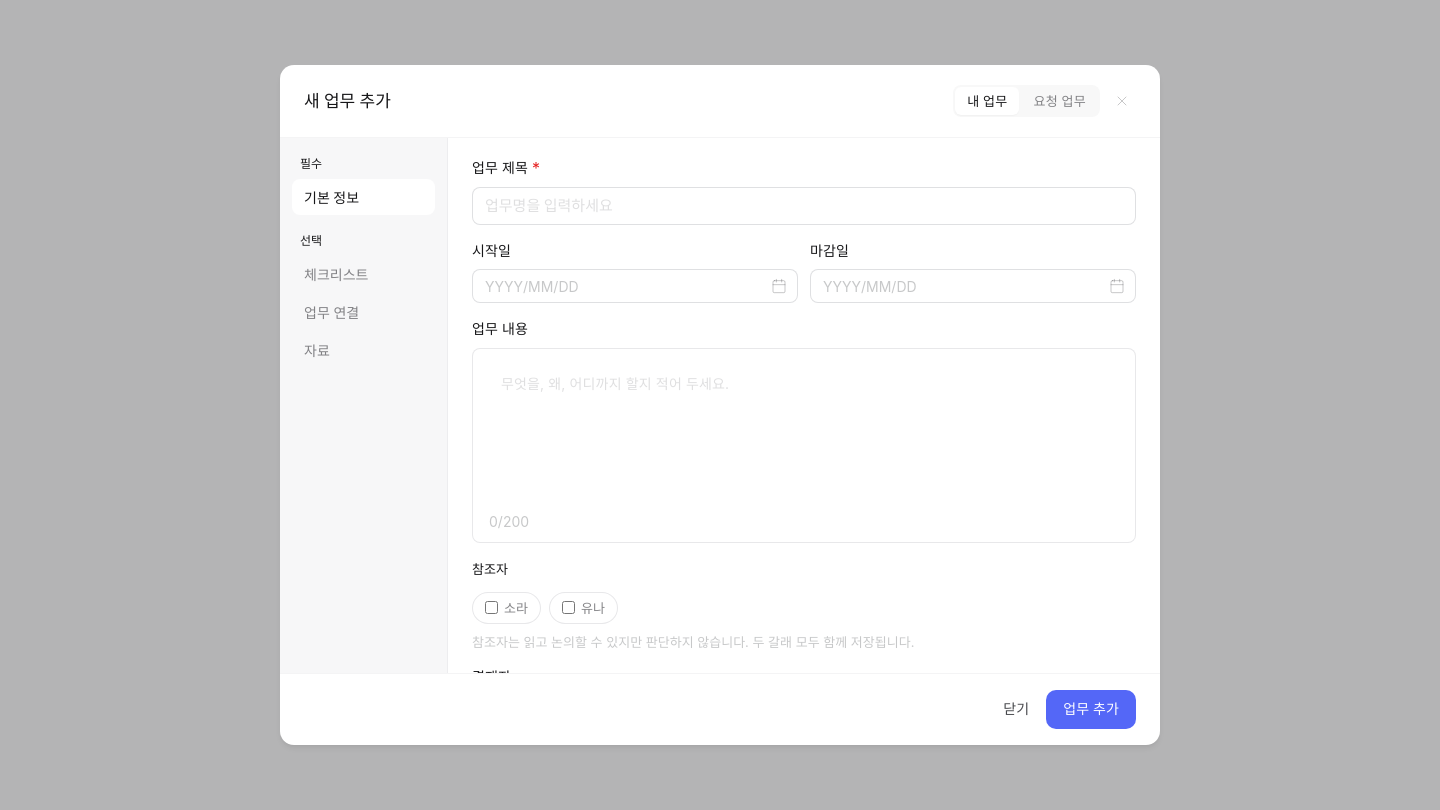
Test: 업무 생성 모달의 골격 › 모달 이름이 고른 갈래를 따른다 — 토글은 그대로 선다
Expected: the dialog "새 업무 추가" is shown, x1=280 y1=65 x2=1160 y2=745
Click the tab "요청 업무". click: click(1060, 101)
box: x1=1022 y1=87 x2=1098 y2=115
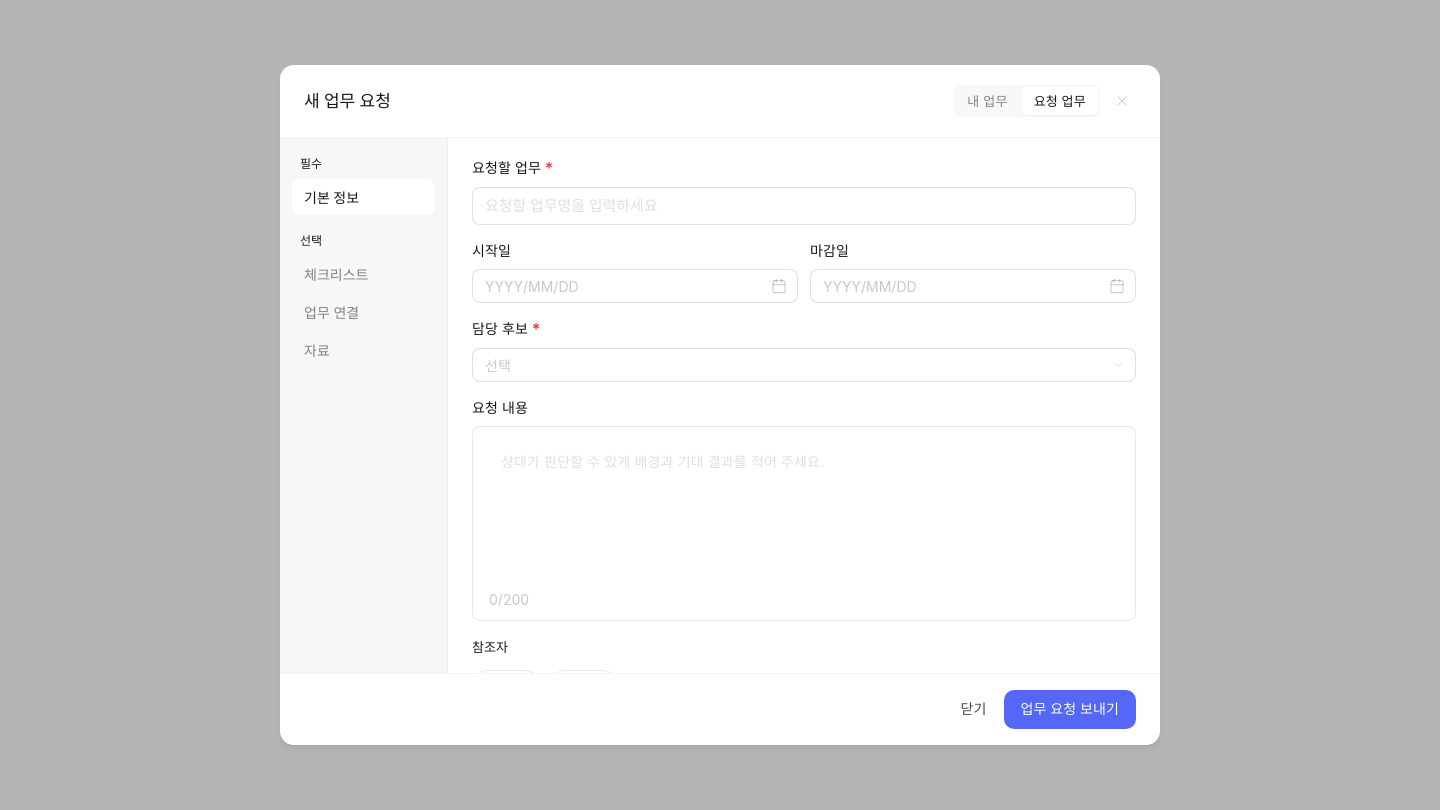
Expected: the element named "생성 유형" is shown, x1=953 y1=85 x2=1100 y2=117
Now the dialog "새 업무 요청" is shown, box x1=280 y1=65 x2=1160 y2=745
Click the tab "내 업무". click: click(987, 101)
box: x1=955 y1=87 x2=1020 y2=115
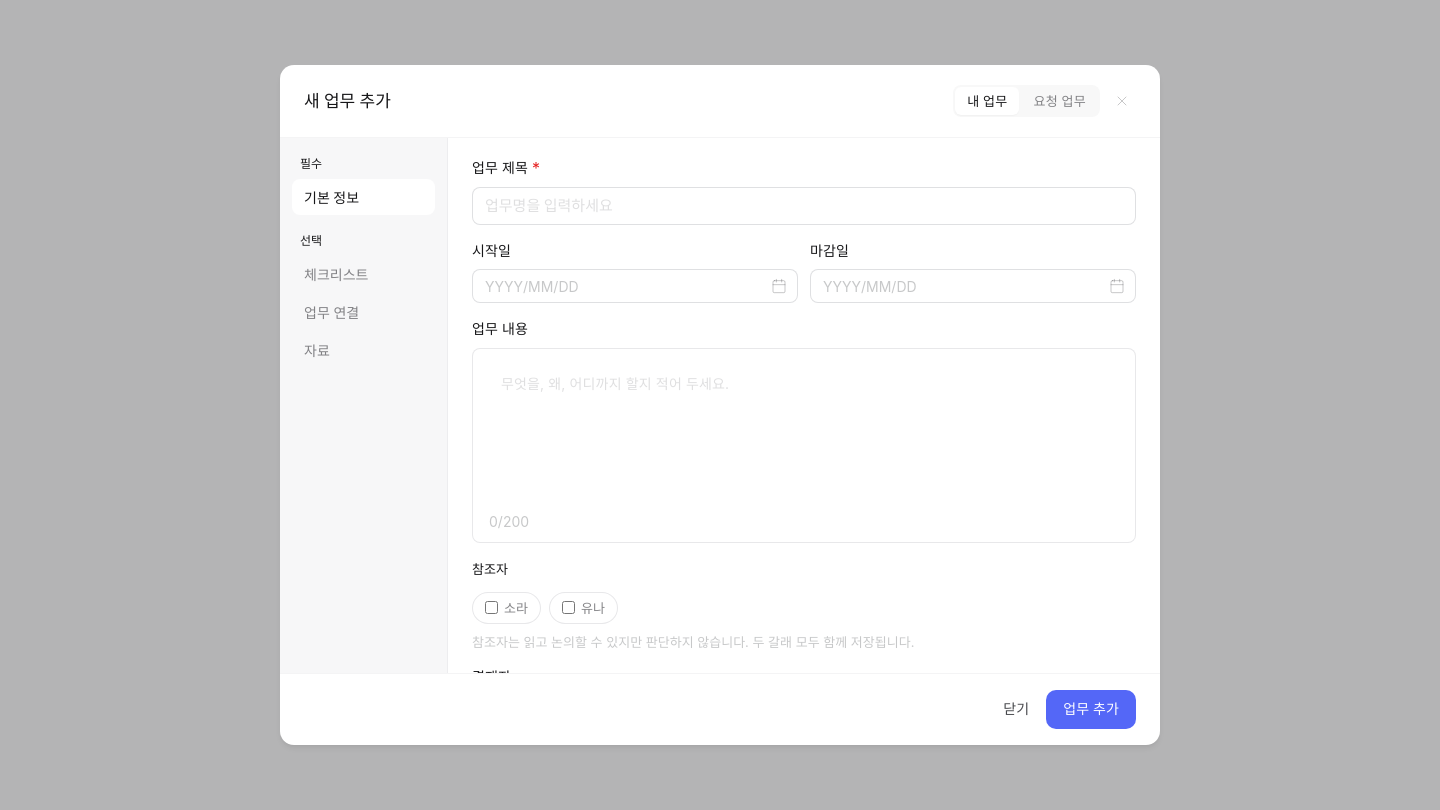
Now the dialog "새 업무 추가" is shown, box x1=280 y1=65 x2=1160 y2=745
